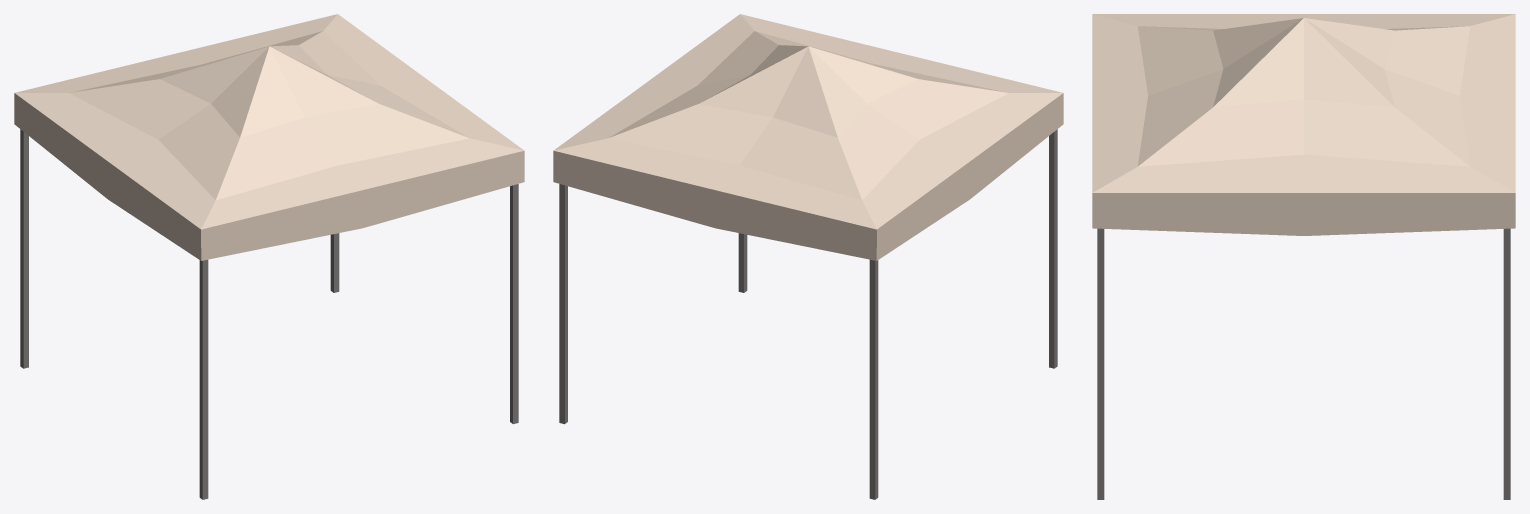
File: props_tent-party.fbx
The picture shows the model from 3 angles, left to right: view 1: azimuth 30°, elevation 25°; view 2: azimuth 150°, elevation 25°; view 3: azimuth 270°, elevation 25°; orthographic projection. The views are drawn at different scales.
Visible parts, largest first — view 1: props_tent_party; view 2: props_tent_party; view 3: props_tent_party.
Boxes of the visible parts, left/top/right/bottom form: props_tent_party: left=14, top=14, right=524, bottom=499; props_tent_party: left=553, top=14, right=1063, bottom=499; props_tent_party: left=1092, top=14, right=1515, bottom=499.
Bounding box in the file's own units: 194 × 200 × 194.
